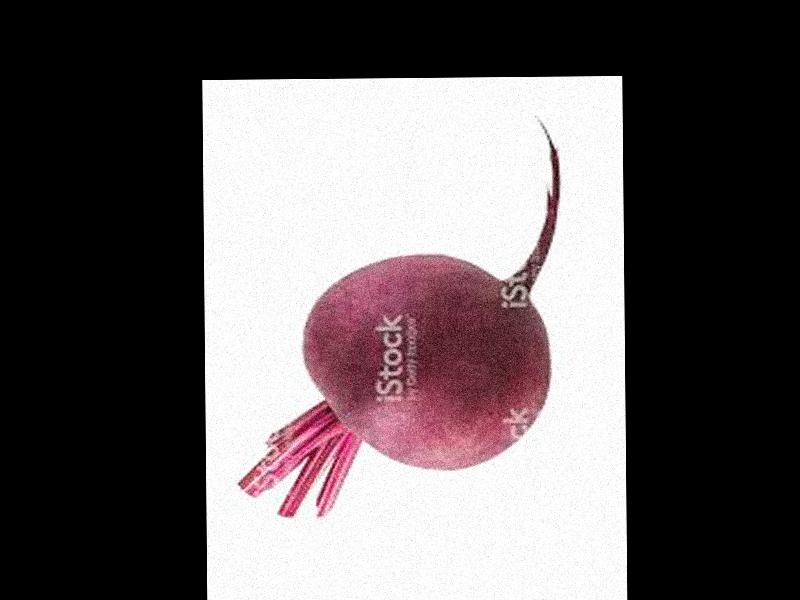Beet: (235, 117, 560, 519)
